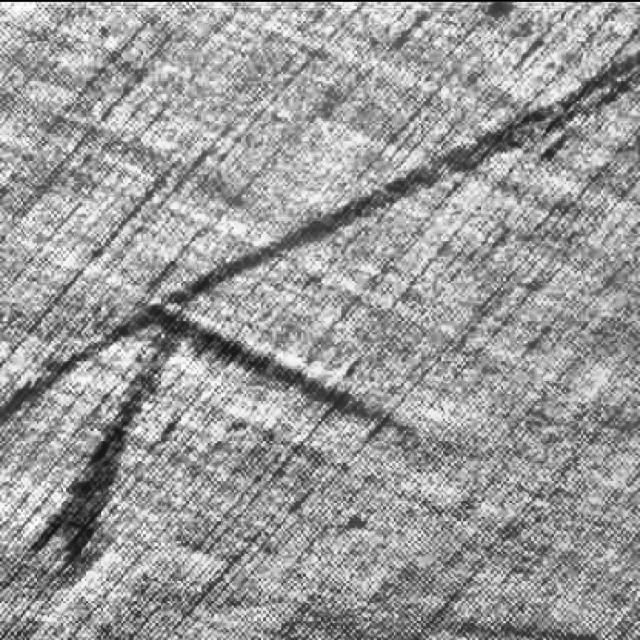oil_spot: (0, 49, 638, 421), (17, 306, 187, 591), (152, 306, 421, 450)
